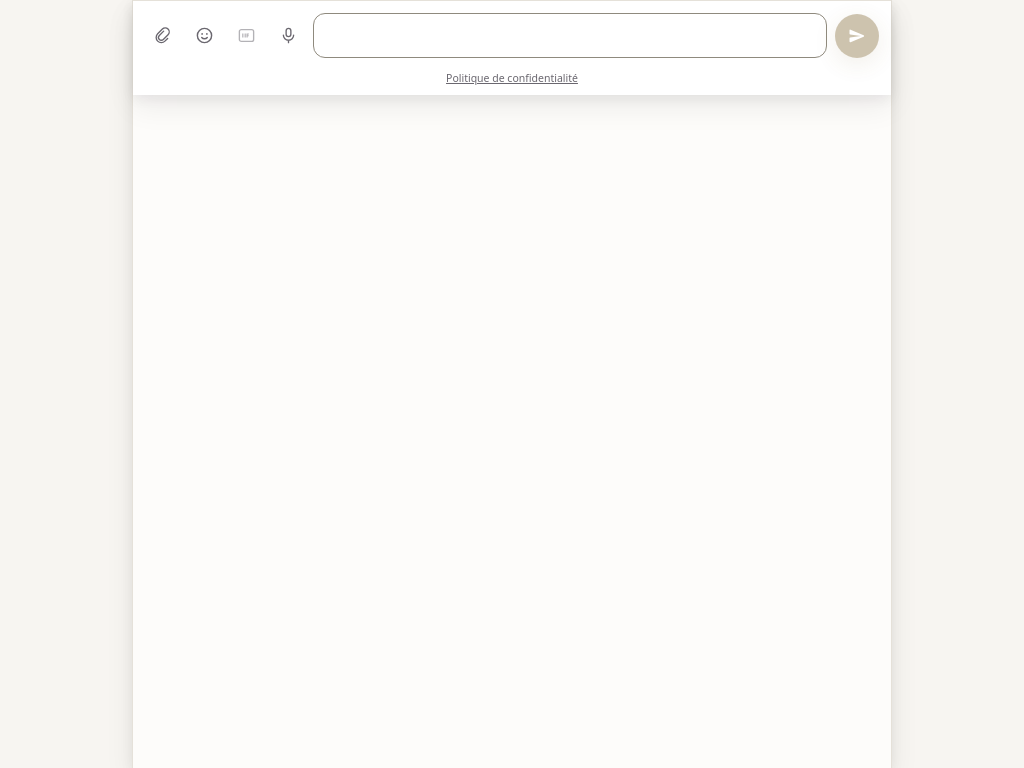
Test: ChatInput — envoi › insère un emoji dans le champ
Click the button titled "Emojis" at coordinates (204, 36), box [187,16,221,56]
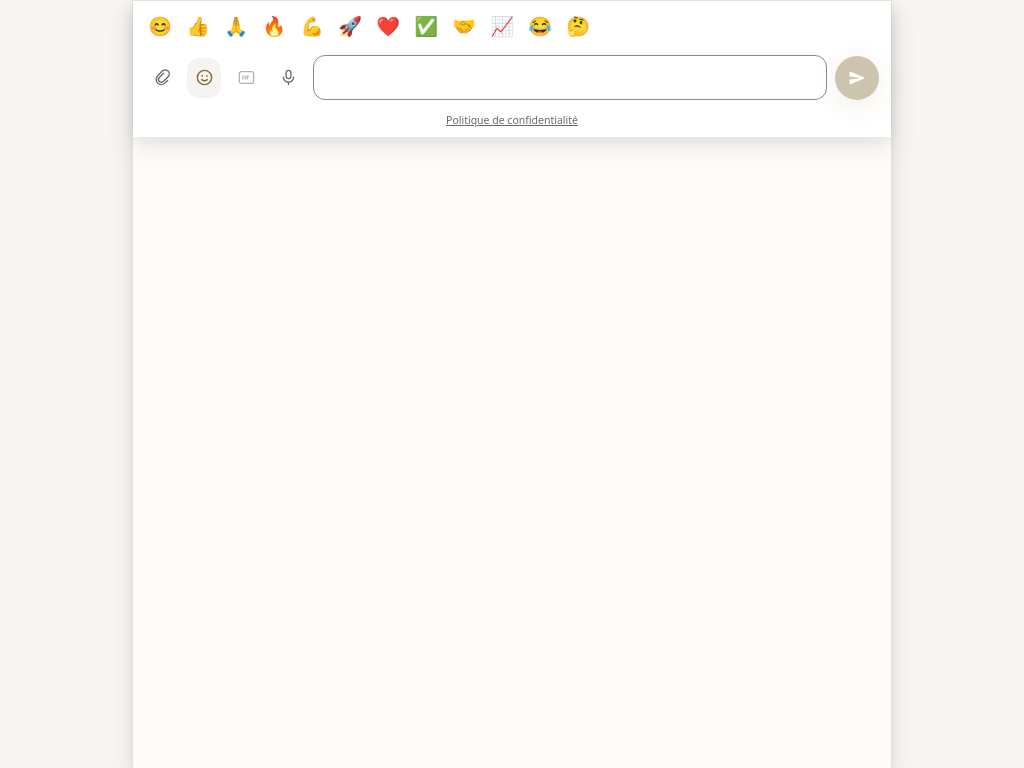
expect the element with class "ep-emoji-bar" is shown: met, box [143,9,595,43]
Click the button "😊" at coordinates (160, 26), box [143,9,177,43]
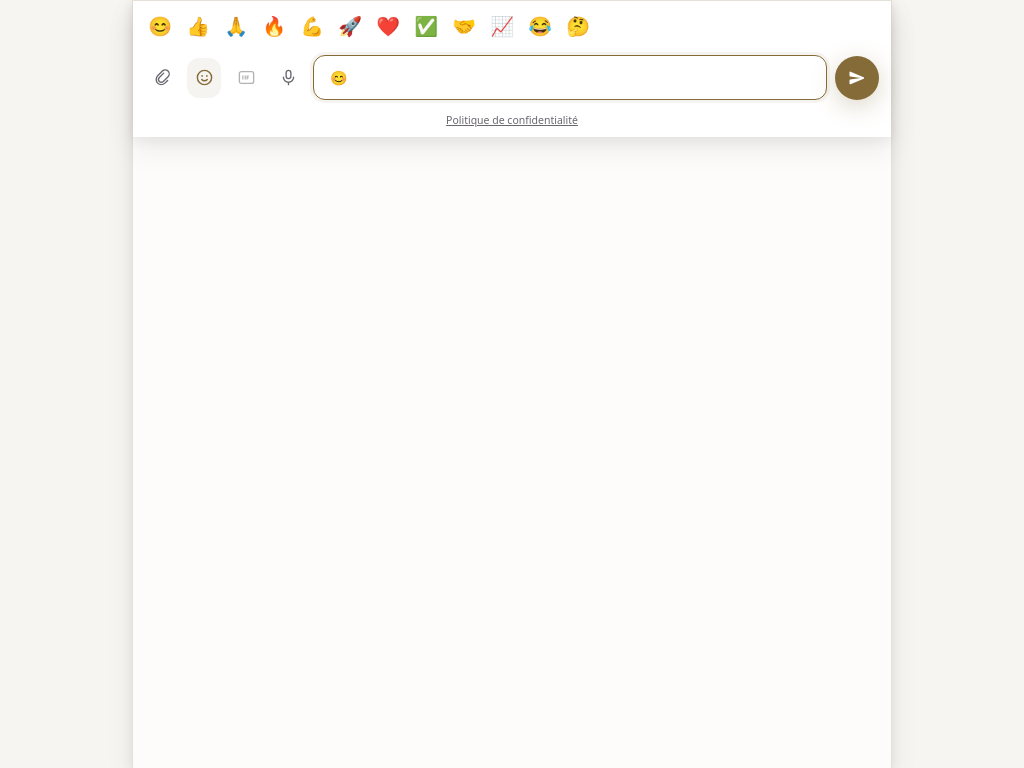
expect the field with class "ep-input" is not empty: met, box [313,55,827,100]
